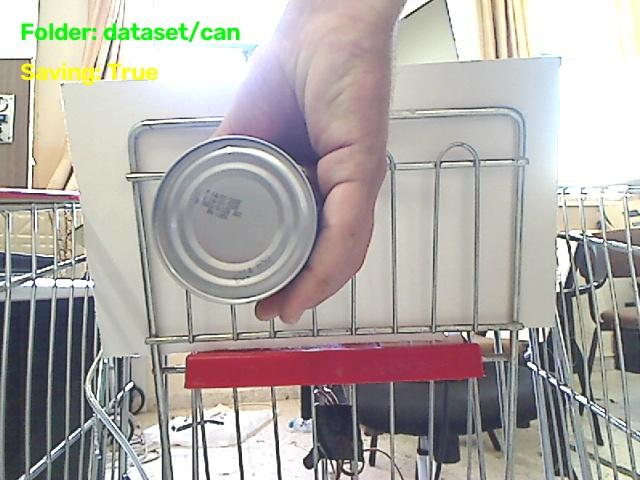can: (153, 136, 317, 303)
